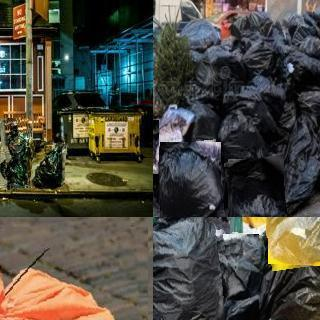Garbage: (0, 220, 153, 320), (153, 217, 234, 320), (243, 238, 320, 320), (157, 140, 223, 217), (219, 233, 263, 320), (226, 157, 286, 217), (221, 100, 280, 159), (263, 217, 320, 268), (194, 44, 241, 90), (31, 141, 66, 190), (0, 116, 34, 162), (0, 146, 33, 189), (305, 0, 320, 44)
